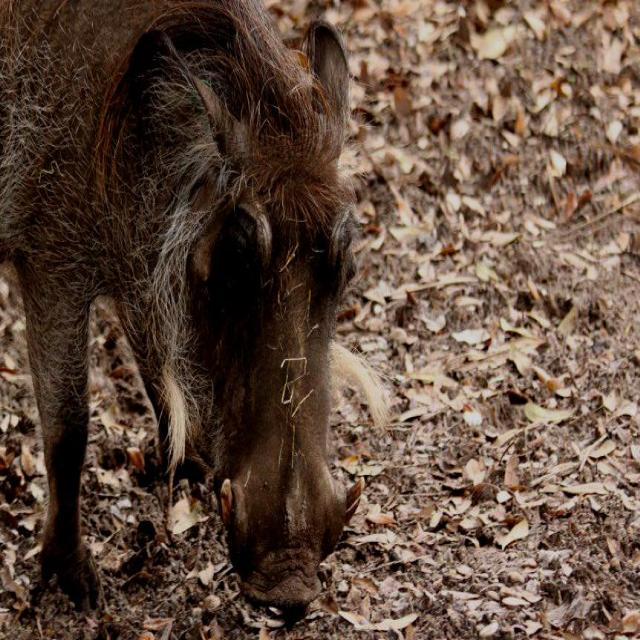pig: (0, 2, 388, 617)
